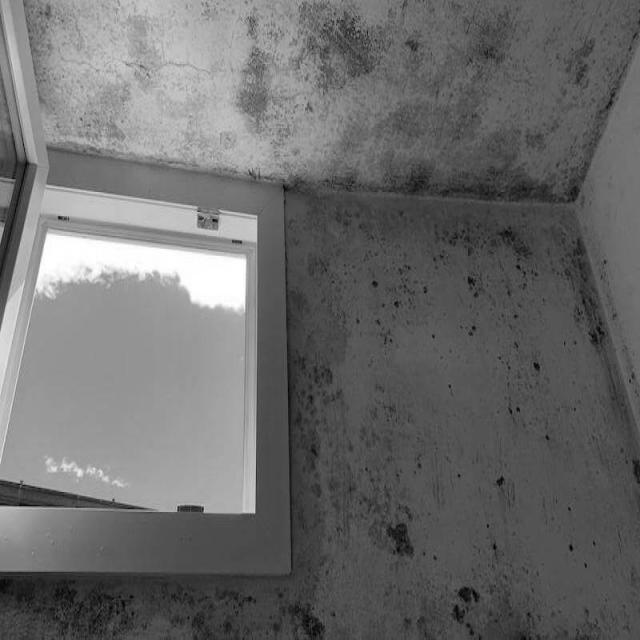stain marks: (245, 0, 640, 640), (1, 573, 235, 640)
